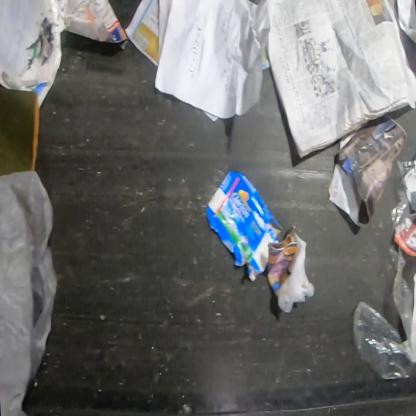cardboard: (207, 171, 283, 282), (0, 87, 40, 177)
soft_plastic: (0, 171, 58, 416), (352, 239, 415, 382), (390, 159, 416, 227)
